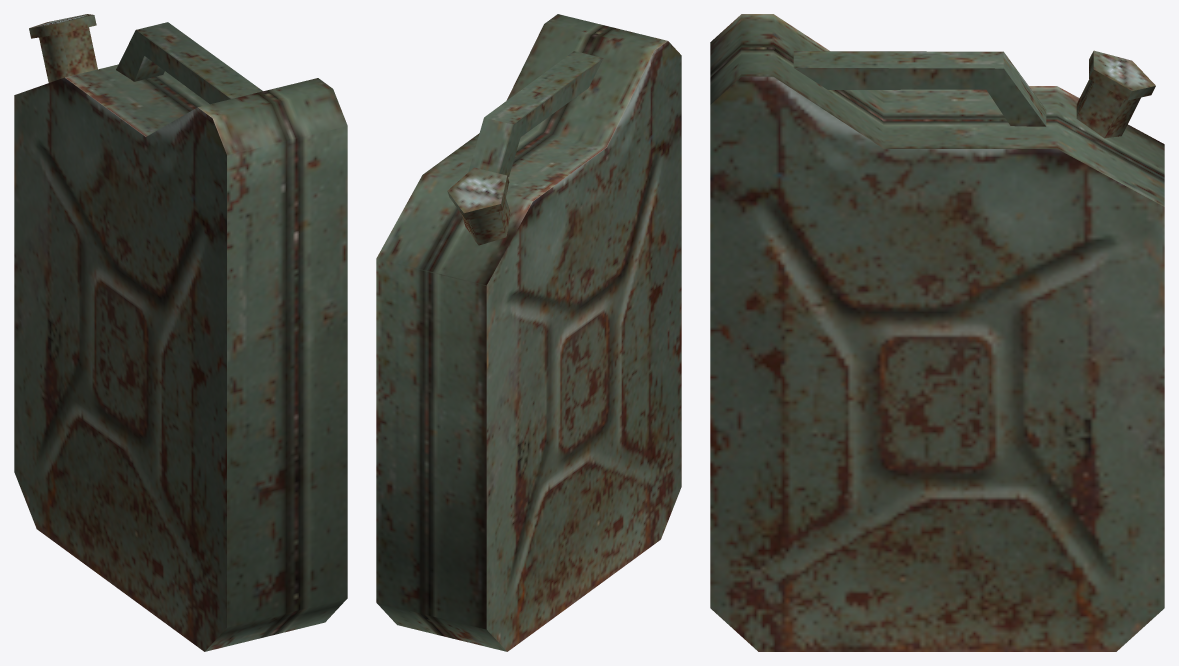
File: Petrol_Can.fbx
The picture shows the model from 3 angles, left to right: view 1: azimuth 30°, elevation 25°; view 2: azimuth 150°, elevation 25°; view 3: azimuth 270°, elevation 25°; orthographic projection. The views are drawn at different scales.
Parts seen in each view (by area): view 1: Petrol_Can; view 2: Petrol_Can; view 3: Petrol_Can.
Part boxes in pixels (left/top/right/bottom): Petrol_Can: left=14, top=14, right=347, bottom=651; Petrol_Can: left=376, top=14, right=681, bottom=651; Petrol_Can: left=710, top=14, right=1164, bottom=651.
Bounding box in the file's own units: 13.6 × 57.9 × 41.42.
